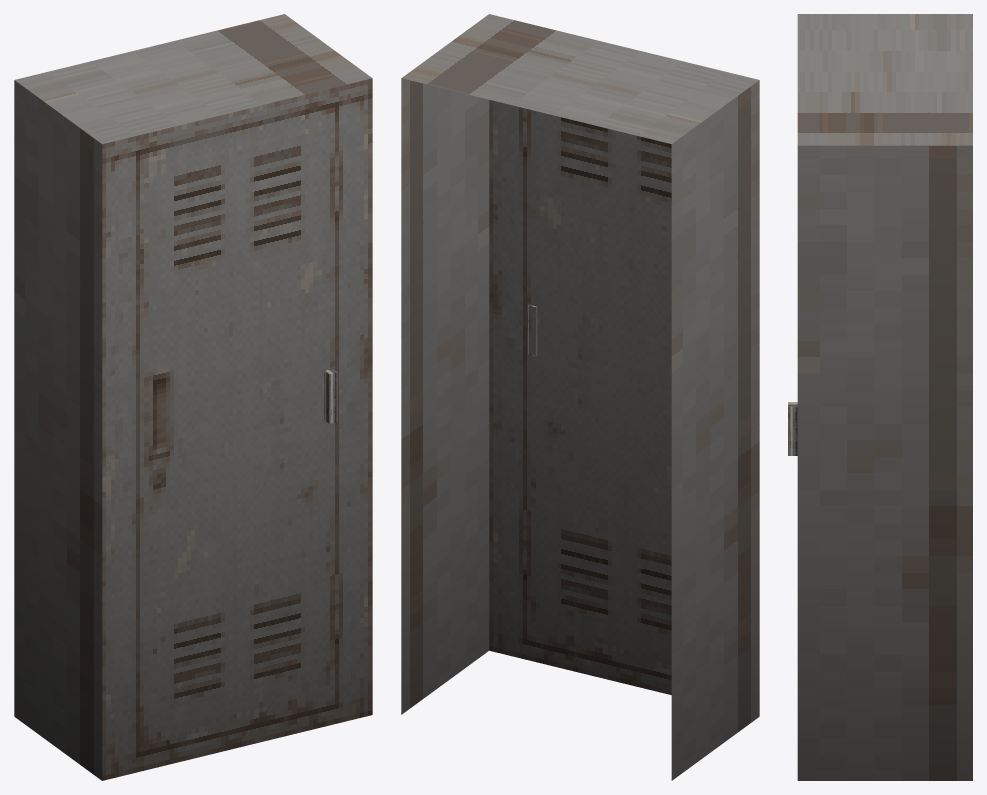
The model's file is prop_cleaning_locker-0.glb.
The picture shows the model from 3 angles, left to right: view 1: azimuth 30°, elevation 25°; view 2: azimuth 150°, elevation 25°; view 3: azimuth 270°, elevation 25°; orthographic projection.
Visible parts, largest first — view 1: prop_cleaning_locker-0; view 2: prop_cleaning_locker-0; view 3: prop_cleaning_locker-0.
Boxes of the visible parts, box(x1,y1,x2,y2) form: prop_cleaning_locker-0: box(14, 14, 372, 780); prop_cleaning_locker-0: box(401, 14, 759, 780); prop_cleaning_locker-0: box(788, 14, 972, 780).
Size of the model in its own units: 0.8 by 1.8 by 0.475.
2 materials, 2 textured.
